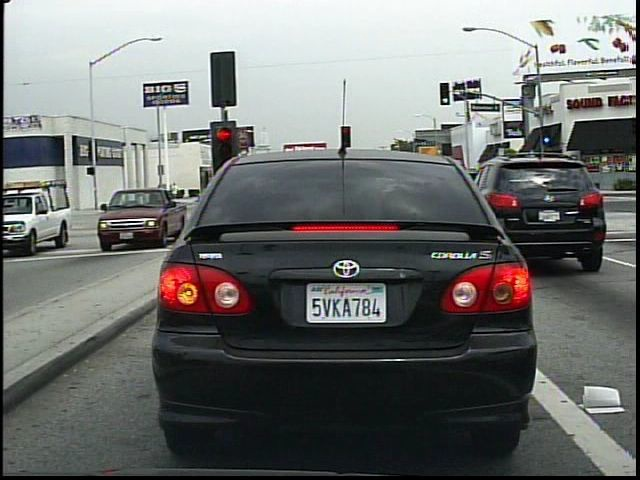person: (164, 173, 185, 203)
